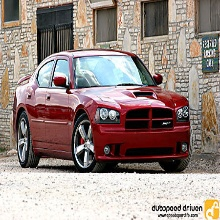no damage: (12, 48, 191, 174)
